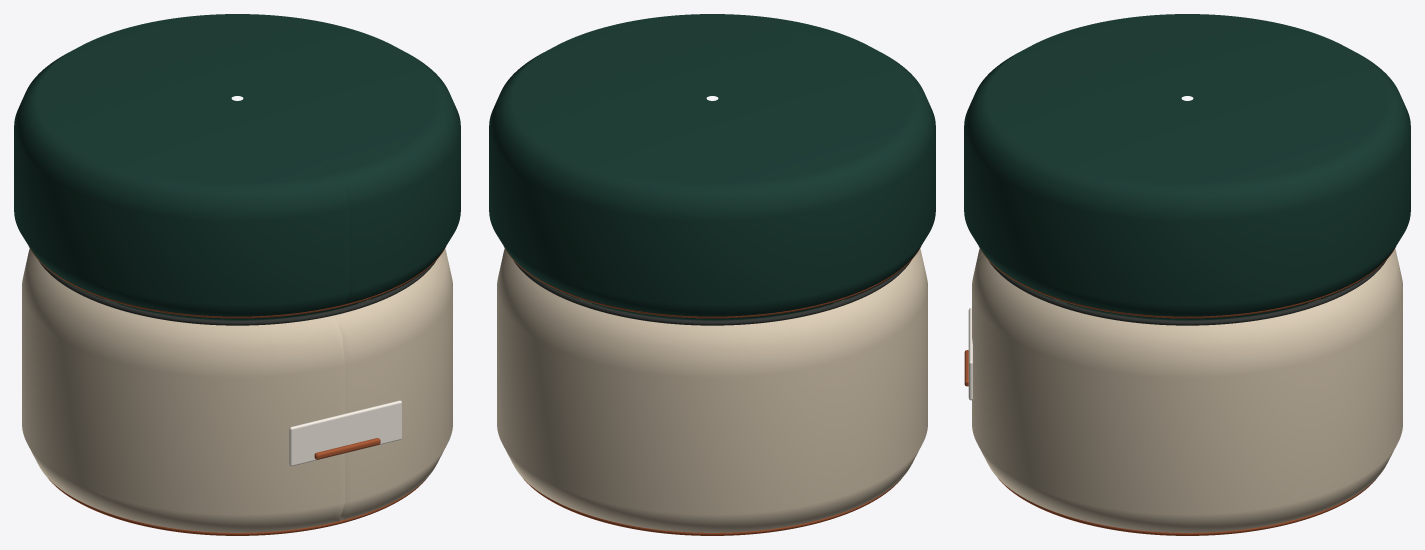
Rendered from gt-jar-050.glb.
3 renders of one model, left to right at view 1: azimuth 30°, elevation 25°; view 2: azimuth 150°, elevation 25°; view 3: azimuth 270°, elevation 25°, orthographic.
Visible parts, largest first — view 1: Jar_Weighted_Lid, Jar_Sculpted_Outer_Body, Configurable_Label_Plate, Jar_Closure_Shadowline, Jar_Base_Copper_Keyline, Jar_Lid_Copper_Keyline; view 2: Jar_Weighted_Lid, Jar_Sculpted_Outer_Body, Jar_Closure_Shadowline, Jar_Base_Copper_Keyline, Jar_Lid_Copper_Keyline; view 3: Jar_Weighted_Lid, Jar_Sculpted_Outer_Body, Jar_Closure_Shadowline, Jar_Base_Copper_Keyline, Jar_Lid_Copper_Keyline.
Part boxes in pixels (x1,y1,x2,y2): Jar_Weighted_Lid: (14, 14, 460, 320); Jar_Sculpted_Outer_Body: (22, 248, 452, 532); Configurable_Label_Plate: (289, 400, 401, 466); Jar_Closure_Shadowline: (38, 260, 436, 325); Jar_Base_Copper_Keyline: (48, 478, 426, 535); Jar_Lid_Copper_Keyline: (29, 247, 445, 318); Jar_Weighted_Lid: (489, 14, 935, 320); Jar_Sculpted_Outer_Body: (497, 248, 927, 532); Jar_Closure_Shadowline: (513, 260, 911, 325); Jar_Base_Copper_Keyline: (523, 478, 901, 535); Jar_Lid_Copper_Keyline: (504, 247, 920, 318); Jar_Weighted_Lid: (964, 14, 1410, 320); Jar_Sculpted_Outer_Body: (972, 248, 1402, 532); Jar_Closure_Shadowline: (988, 260, 1386, 325); Jar_Base_Copper_Keyline: (998, 478, 1376, 535); Jar_Lid_Copper_Keyline: (979, 247, 1395, 318).
Bounding box in the file's own units: 2.28 × 2.02 × 2.28.
